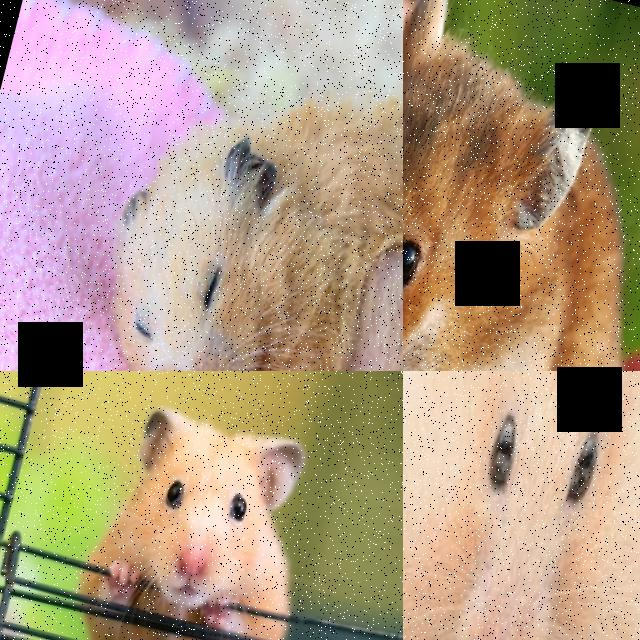hamster: (74, 39, 403, 371), (403, 0, 640, 371), (55, 394, 350, 640), (403, 371, 640, 640)
